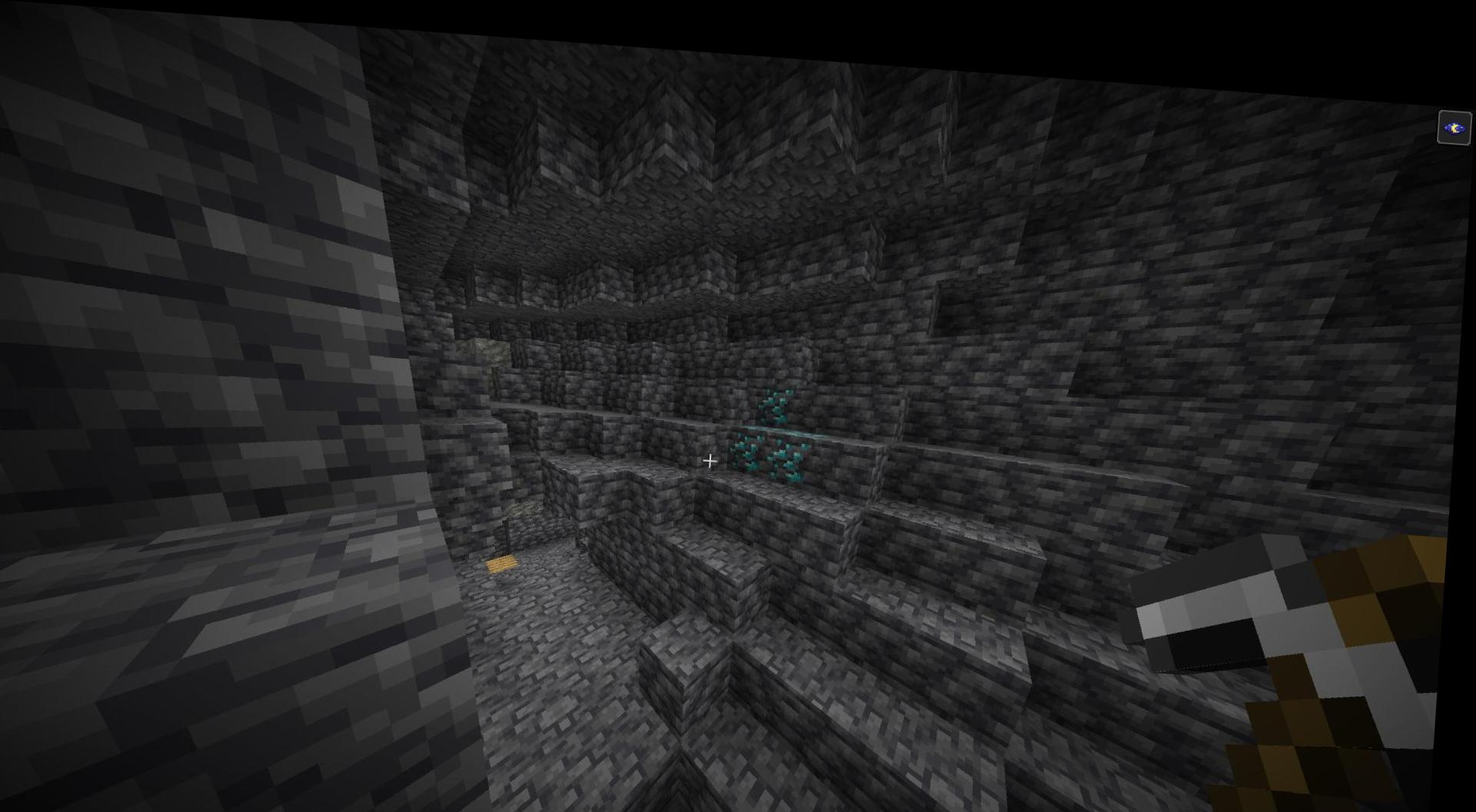diamond ore: (774, 418, 822, 478), (732, 413, 775, 463), (759, 372, 802, 416)
